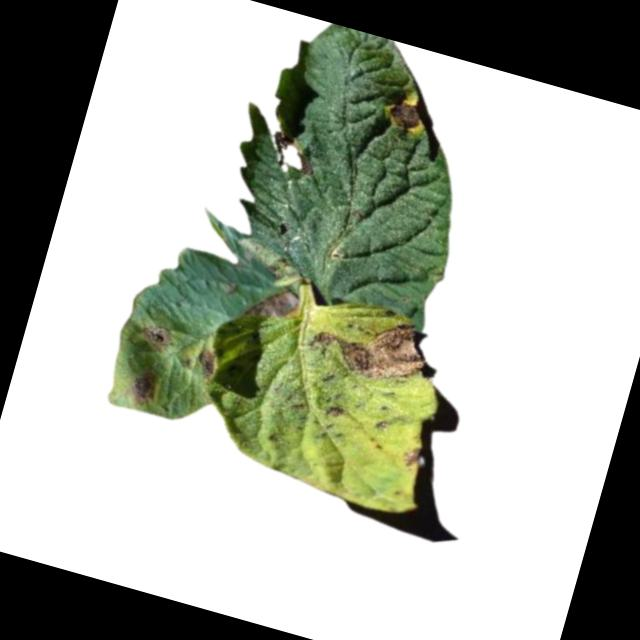Early_blight: (301, 299, 434, 394), (242, 279, 304, 330), (264, 129, 322, 179), (378, 96, 424, 134), (126, 366, 162, 407), (138, 321, 175, 355), (190, 348, 217, 384), (399, 445, 423, 469), (323, 403, 345, 423)
